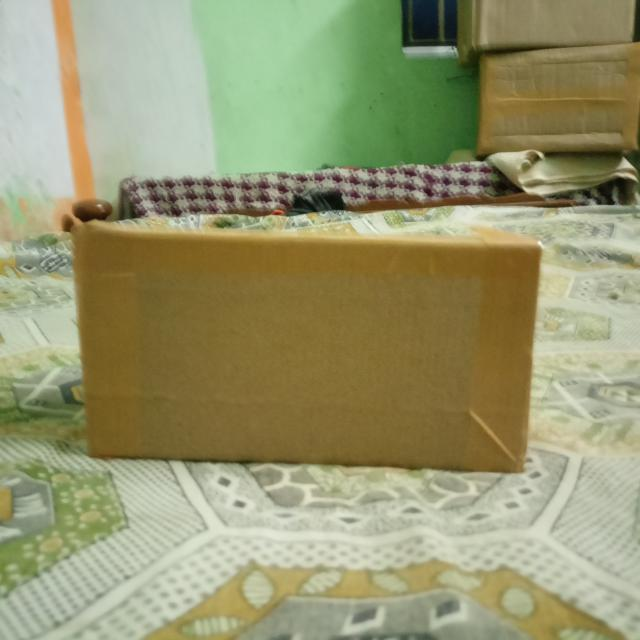box: (78, 221, 544, 471)
